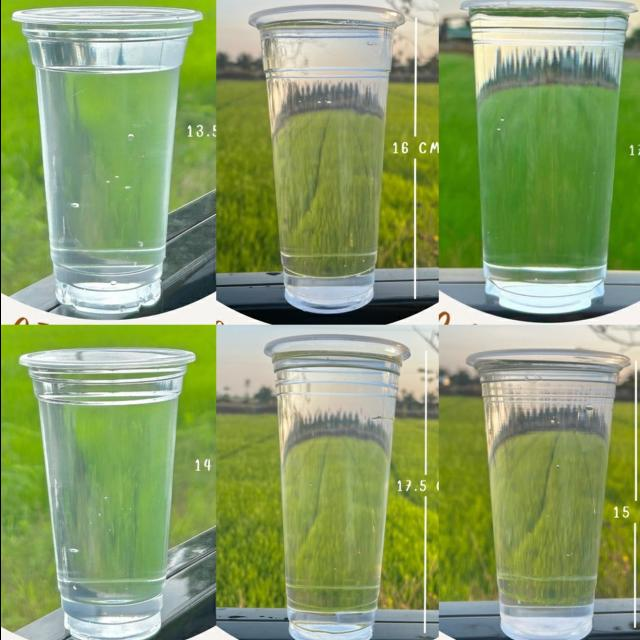plastik: (11, 7, 201, 315), (461, 0, 634, 314), (19, 348, 195, 640), (248, 6, 403, 313), (466, 349, 629, 640), (264, 335, 409, 640)
